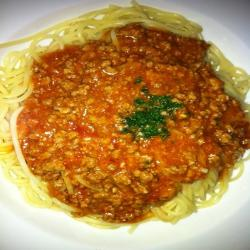bolonese_pasta: (2, 6, 248, 229)
